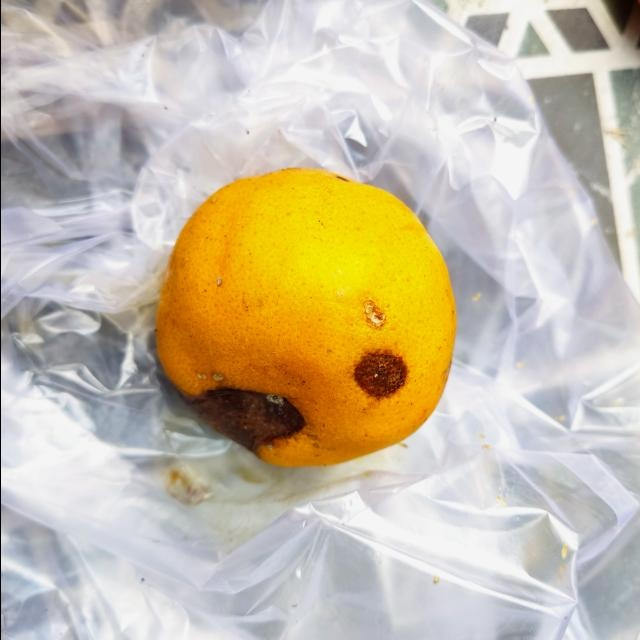agrume: (152, 160, 460, 472)
